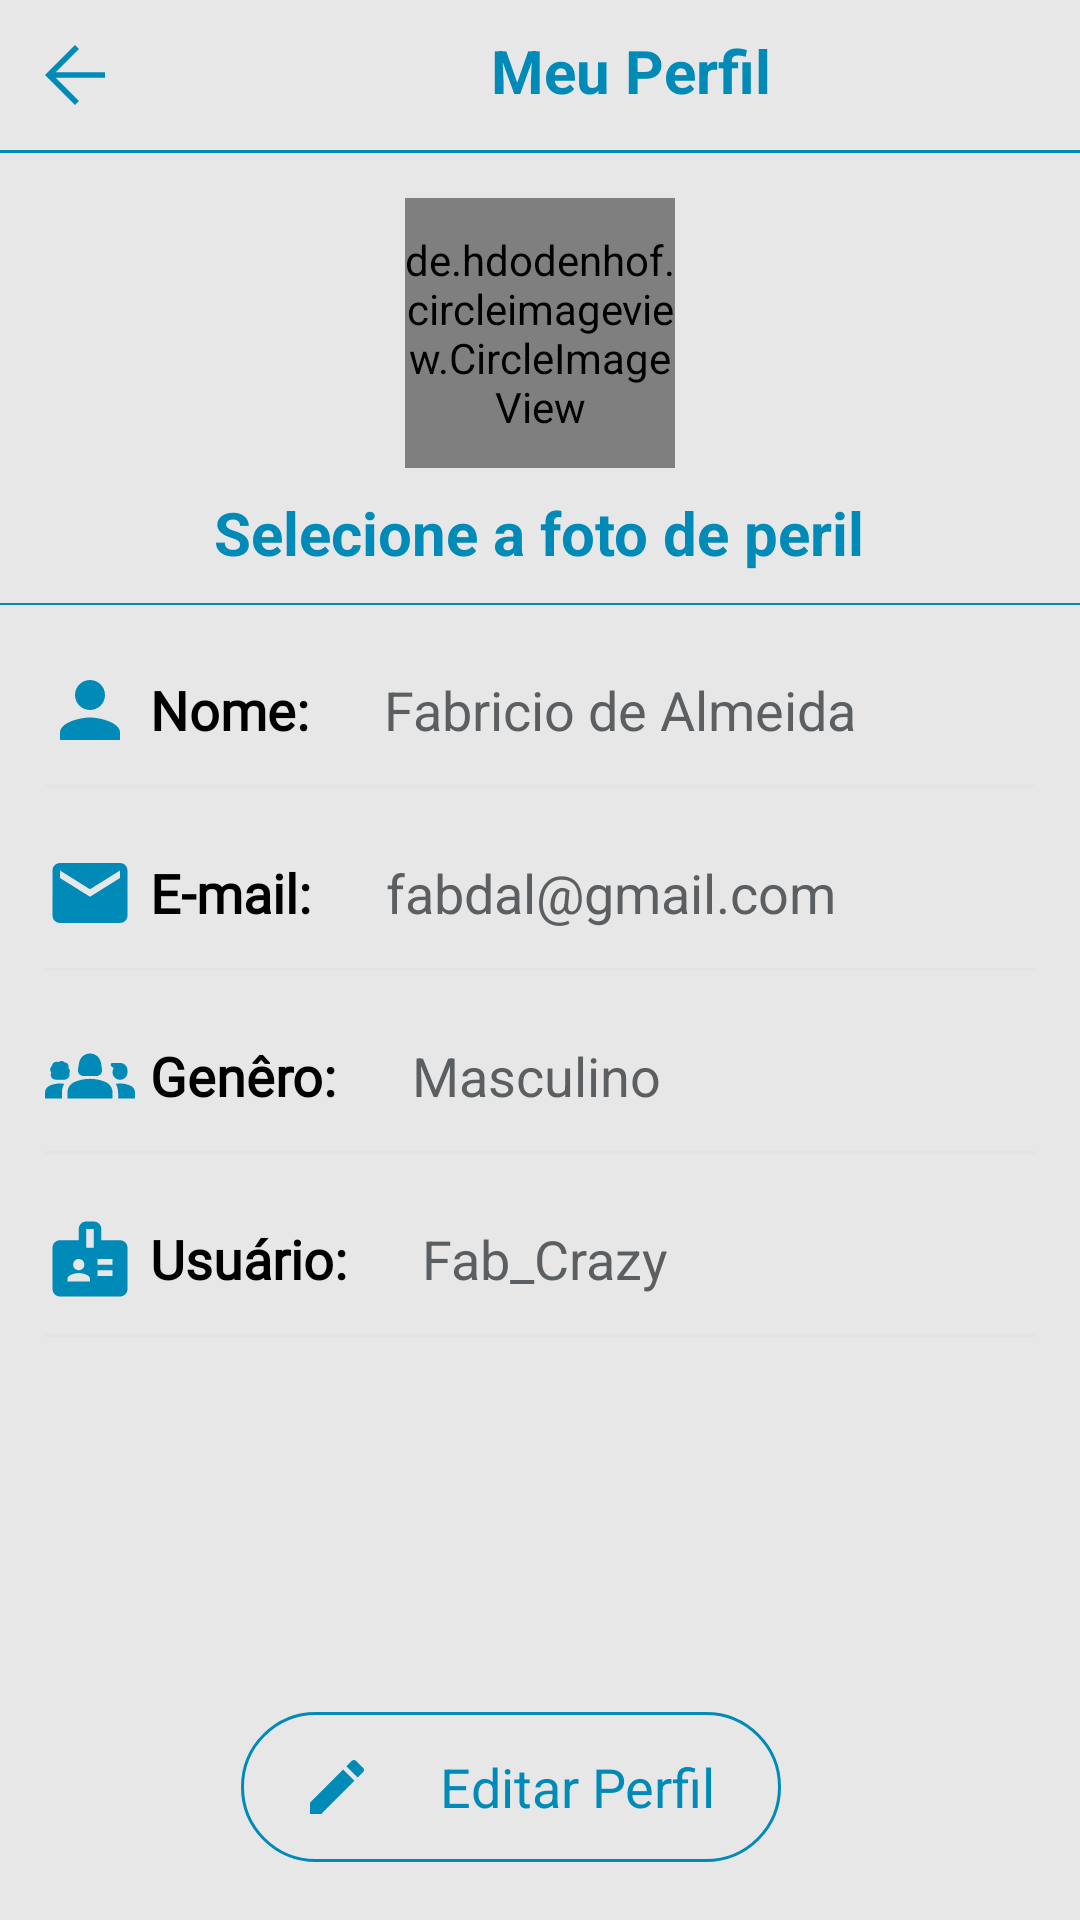

Named icons in this screenshot (1080×1920) and their centers, point (x, y):
arrowback: point (75, 75)
badge user: point (90, 1259)
groups: point (90, 1076)
person: point (90, 710)
